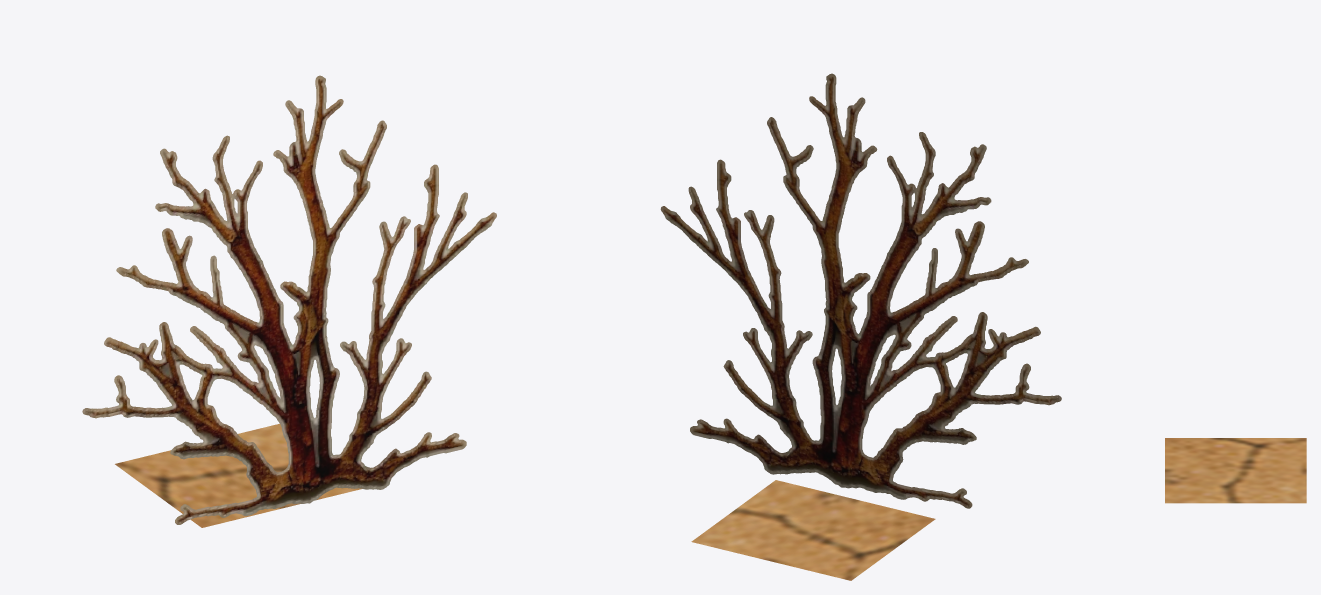
File: toad-prop-dead-bush.glb
3 views of the same model, side by side, from view 1: azimuth 30°, elevation 25°; view 2: azimuth 150°, elevation 25°; view 3: azimuth 270°, elevation 25° (orthographic). The views are drawn at different scales.
Parts seen in each view (by area): view 1: dead-bush; view 2: dead-bush; view 3: dead-bush.
Part boxes in pixels (x1=…): dead-bush: x1=82, y1=75, x2=496, y2=527; dead-bush: x1=660, y1=73, x2=1061, y2=580; dead-bush: x1=1165, y1=438, x2=1306, y2=503.
Size of the model in its own units: 0.12 by 0.09 by 0.035.
1 material, 1 textured.
